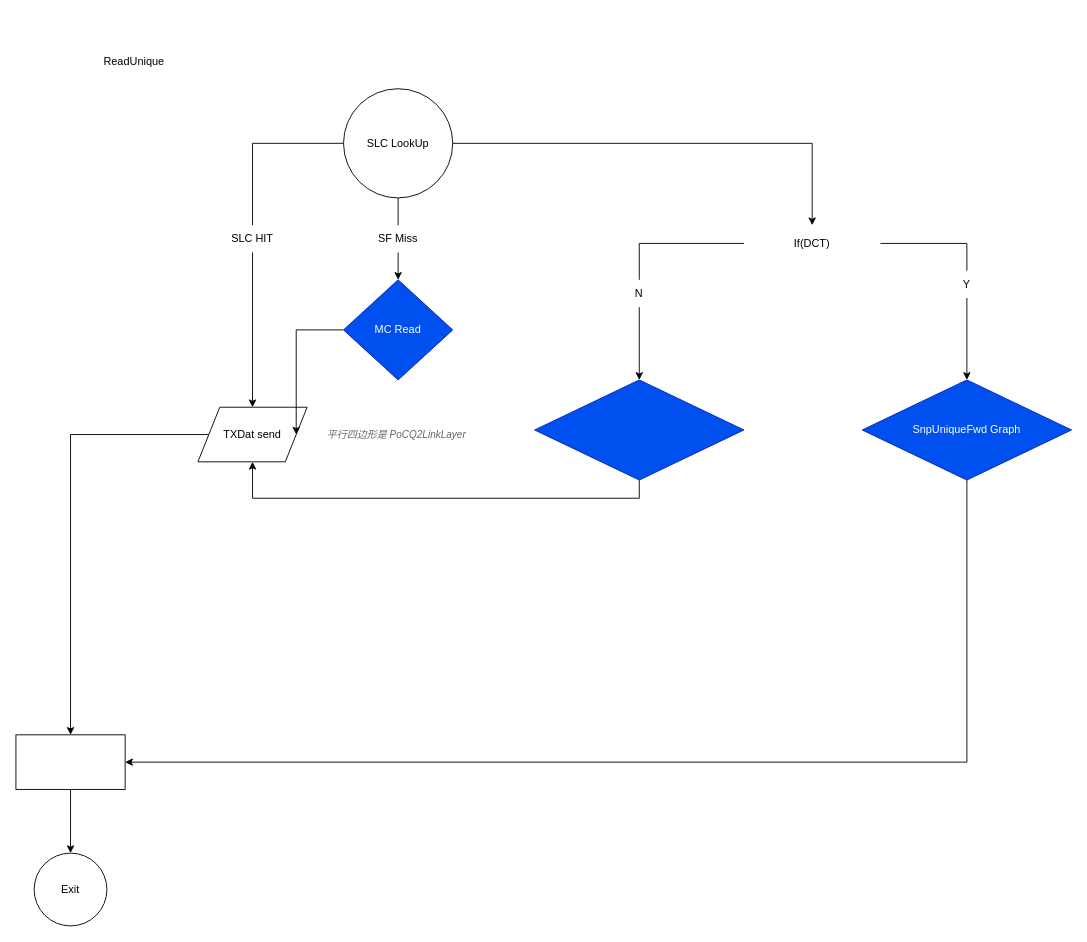
This 1087x942 diagram has some shape labels left out. Each missing label, with the centre of its shape:
SnpUnique Graph: pixel 639 429
Wait CompAck: pixel 70 761
